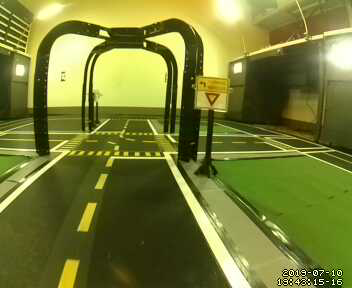Turn Yield: (195, 77, 229, 110)
